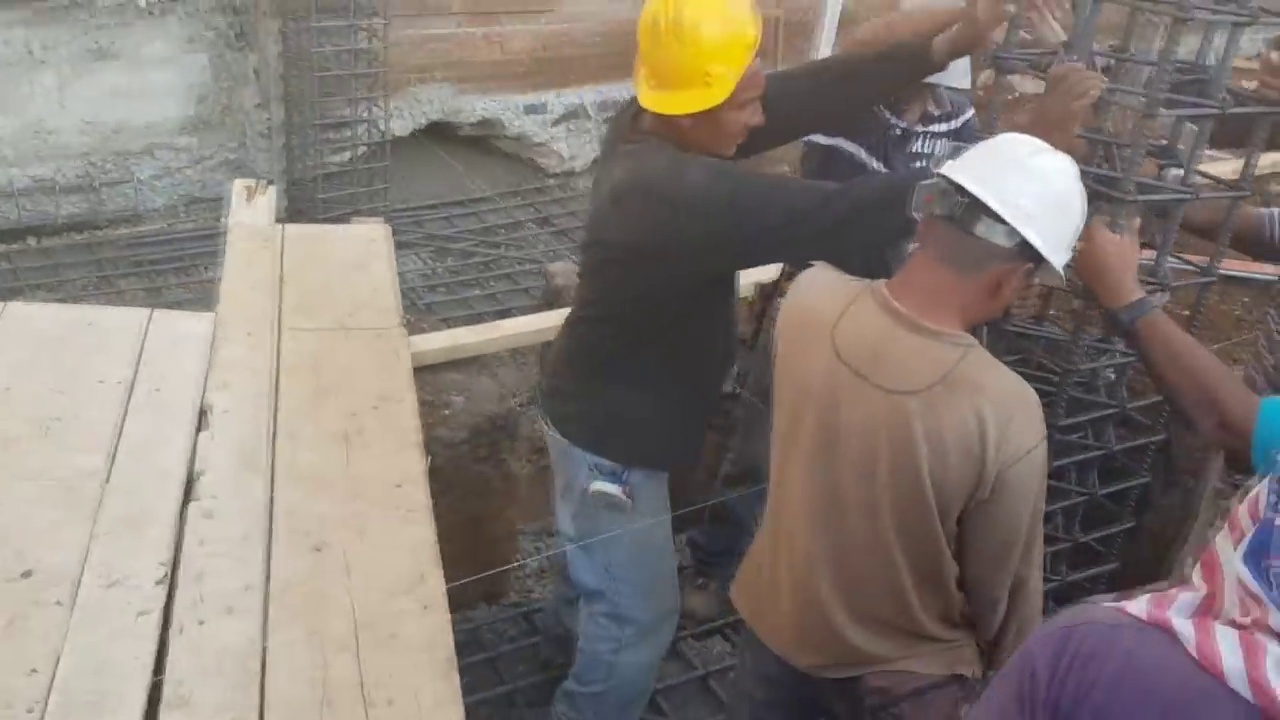helmet: (937, 132, 1092, 303), (636, 4, 763, 123)
helmet-on: (872, 130, 1096, 340), (608, 5, 774, 164)
person: (534, 1, 1006, 715), (738, 136, 1092, 709), (970, 467, 1279, 719), (1093, 191, 1280, 470)
